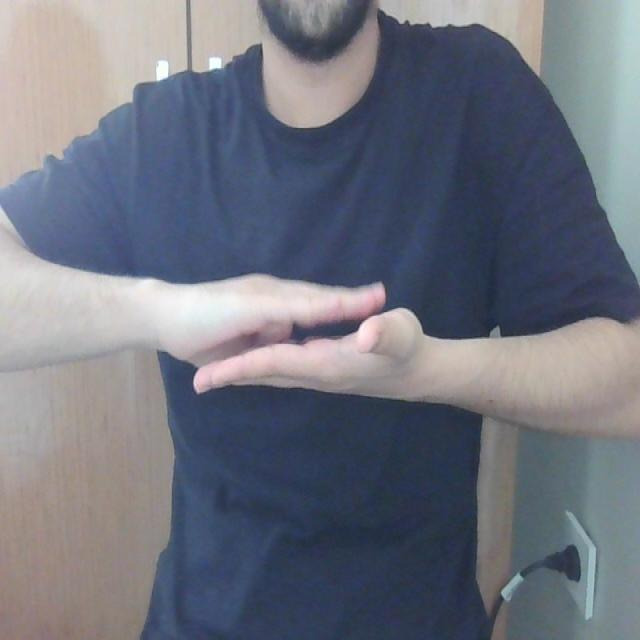Arkadas: (0, 263, 640, 406)
